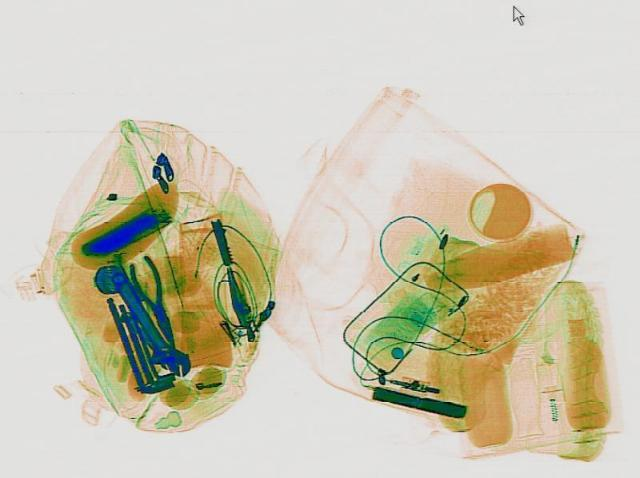Pliers: (120, 252, 188, 349)
Wrench: (95, 266, 199, 381)
